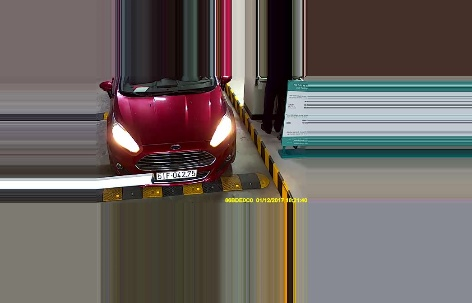plate: (153, 168, 203, 181)
